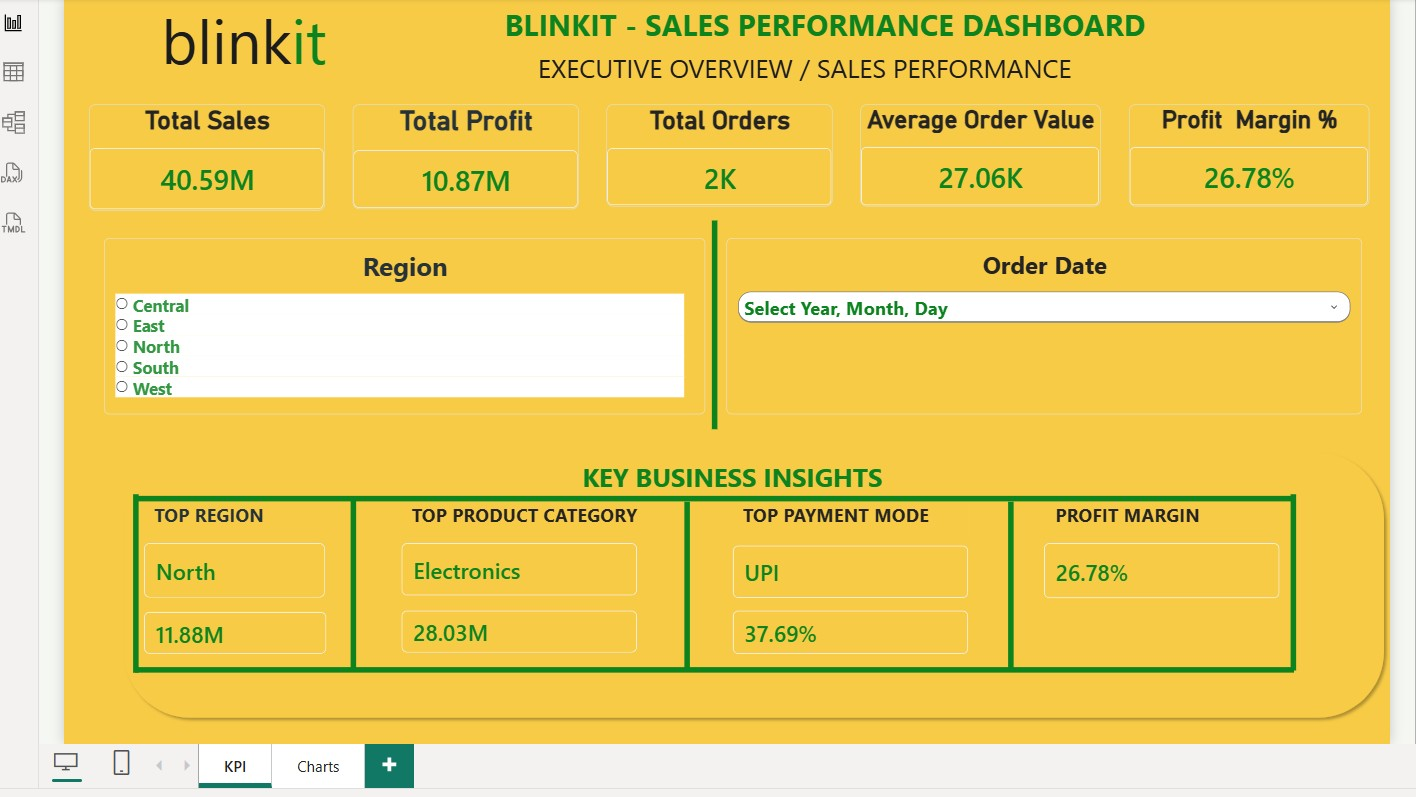

Layout of this report page (visuals, bound fields, positions):
{"tool":"powerbi","page":{"name":"KPI","canvas":[1920,1080],"ordinal":0},"visuals":[{"type":"cardVisual","title":"Total Sales","fields":{"Data":["SalesData.Total Sales"]},"box":[36.6,153.6,341.7,154.4],"z":0},{"type":"cardVisual","title":"Total Profit","fields":{"Data":["SalesData.Total Profit"]},"box":[418.5,153.6,327.3,152.3],"z":1000},{"type":"cardVisual","title":"Total Orders","fields":{"Data":["SalesData.Total Orders"]},"box":[785.9,153.6,327.3,148.2],"z":2000},{"type":"cardVisual","title":"Average Order Value","fields":{"Data":["SalesData.Average Order Value"]},"box":[1153.3,153.6,347.9,148.2],"z":3000},{"type":"listSlicer","title":"Region","fields":{"Values":["SalesData.Region"]},"box":[57.6,347.9,870.7,255.2],"z":4000},{"type":"listSlicer","title":"Order Date","fields":{"Values":["SalesData.OrderDate.Variation.Date Hierarchy.Year","SalesData.OrderDate.Variation.Date Hierarchy.Month","SalesData.OrderDate.Variation.Date Hierarchy.Day"]},"box":[959.2,347.9,920.1,255.2],"z":5000},{"type":"textbox","box":[539.3,9,1125.6,68.8],"z":6000},{"type":"cardVisual","title":"Profit  Margin %","fields":{"Data":["SalesData.Profit Margin %"]},"box":[1541.3,153.6,347.9,148.2],"z":7000},{"type":"textbox","box":[539.3,76.2,1066.2,76.2],"z":8000},{"type":"shape","box":[77.8,649.7,1842.2,401.4],"z":9000},{"type":"textbox","box":[714.8,667.8,485,56.1],"z":10000},{"type":"textbox","box":[115.3,728.6,263.5,43.2],"z":11000},{"type":"textbox","box":[489.2,728.6,368.4,47.3],"z":12000},{"type":"textbox","box":[968.1,728.6,341.7,47.3],"z":13000},{"type":"textbox","box":[1420.2,728.6,341.7,43.2],"z":14000},{"type":"cardVisual","fields":{"Data":["SalesData.Profit Margin %"]},"box":[1418.8,789,341.7,80.3],"z":15000},{"type":"cardVisual","fields":{"Data":["SalesData.Top Region sales"]},"box":[115.8,888.5,264.2,61.5],"z":16000},{"type":"cardVisual","fields":{"Data":["SalesData.Top Region Name"]},"box":[115.8,789,262.4,79.6],"z":17000},{"type":"cardVisual","fields":{"Data":["SalesData.Top Payment Share"]},"box":[968.2,886.7,341.7,63.8],"z":18000},{"type":"cardVisual","fields":{"Data":["SalesData.Top Category Sales"]},"box":[487.7,886.7,341.7,61.7],"z":19000},{"type":"cardVisual","fields":{"Data":["SalesData.Top Category Name"]},"box":[487.7,789,341.7,76.2],"z":20000},{"type":"cardVisual","fields":{"Data":["SalesData.Top Payment Mode"]},"box":[968.2,792.6,341.7,76.2],"z":21000},{"type":"shape","box":[247.9,725.7,342,247.9],"z":21001},{"type":"shape","box":[1199.8,729.3,342,244.3],"z":21002},{"type":"shape","box":[731.1,729.3,342,244.3],"z":21003},{"type":"textbox","box":[36.2,0,436.1,150.2],"z":21004},{"type":"shape","box":[770.9,322.1,342,302.2],"z":21005},{"type":"shape","box":[103.2,917.5,1677.6,110.4],"z":21006},{"type":"shape","box":[103.2,680.4,1677.6,88.7],"z":21007},{"type":"shape","box":[1699.3,718.4,161.1,255.2],"z":21008},{"type":"shape","box":[29,718.4,150.2,258.8],"z":21009}]}

Visuals, with their boxes on the page's 1920x1080 design canvas (x1, y1, x2, y2). These are canvas units, not pixel positions in the 1416x797 screenshot, which may show the page scaled, cropped or inside an application window:
"Total Sales" cardVisual: l=37, t=154, r=378, b=308
"Total Profit" cardVisual: l=418, t=154, r=746, b=306
"Total Orders" cardVisual: l=786, t=154, r=1113, b=302
"Average Order Value" cardVisual: l=1153, t=154, r=1501, b=302
"Region" listSlicer: l=58, t=348, r=928, b=603
"Order Date" listSlicer: l=959, t=348, r=1879, b=603
textbox: l=539, t=9, r=1665, b=78
"Profit  Margin %" cardVisual: l=1541, t=154, r=1889, b=302
textbox: l=539, t=76, r=1606, b=152
shape: l=78, t=650, r=1920, b=1051
textbox: l=715, t=668, r=1200, b=724
textbox: l=115, t=729, r=379, b=772
textbox: l=489, t=729, r=858, b=776
textbox: l=968, t=729, r=1310, b=776
textbox: l=1420, t=729, r=1762, b=772
cardVisual - SalesData.Profit Margin %: l=1419, t=789, r=1760, b=869
cardVisual - SalesData.Top Region sales: l=116, t=888, r=380, b=950
cardVisual - SalesData.Top Region Name: l=116, t=789, r=378, b=869
cardVisual - SalesData.Top Payment Share: l=968, t=887, r=1310, b=950
cardVisual - SalesData.Top Category Sales: l=488, t=887, r=829, b=948
cardVisual - SalesData.Top Category Name: l=488, t=789, r=829, b=865
cardVisual - SalesData.Top Payment Mode: l=968, t=793, r=1310, b=869
shape: l=248, t=726, r=590, b=974
shape: l=1200, t=729, r=1542, b=974
shape: l=731, t=729, r=1073, b=974
textbox: l=36, t=0, r=472, b=150
shape: l=771, t=322, r=1113, b=624
shape: l=103, t=918, r=1781, b=1028
shape: l=103, t=680, r=1781, b=769
shape: l=1699, t=718, r=1860, b=974
shape: l=29, t=718, r=179, b=977
